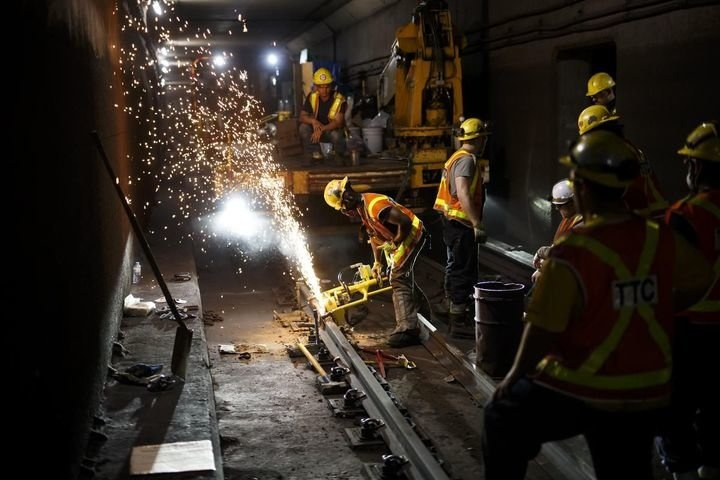white: (549, 177, 575, 216)
yellow: (571, 130, 640, 211), (681, 122, 720, 188), (575, 105, 619, 141), (324, 177, 359, 216), (457, 117, 489, 154), (586, 72, 616, 105), (311, 67, 335, 97)
